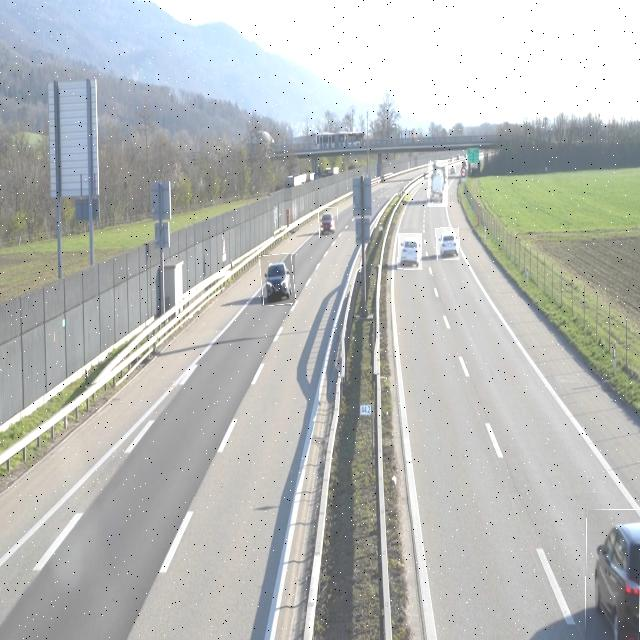Car: (585, 509, 640, 640), (261, 254, 295, 306), (398, 233, 422, 270), (436, 228, 459, 260), (319, 207, 338, 238)
Truck: (428, 161, 448, 207)
